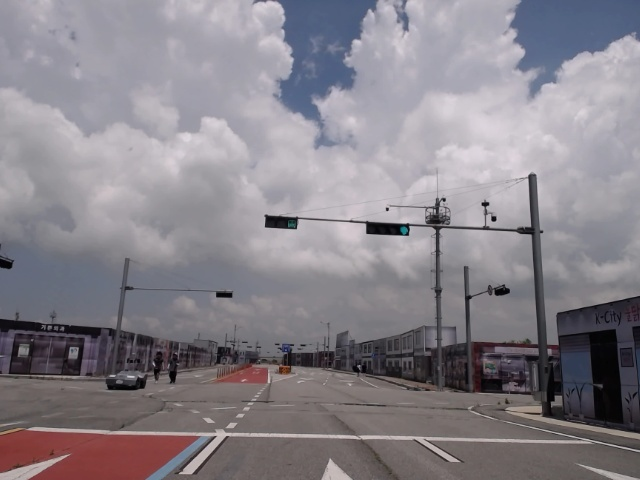straight_green_4: (365, 222, 410, 234)
